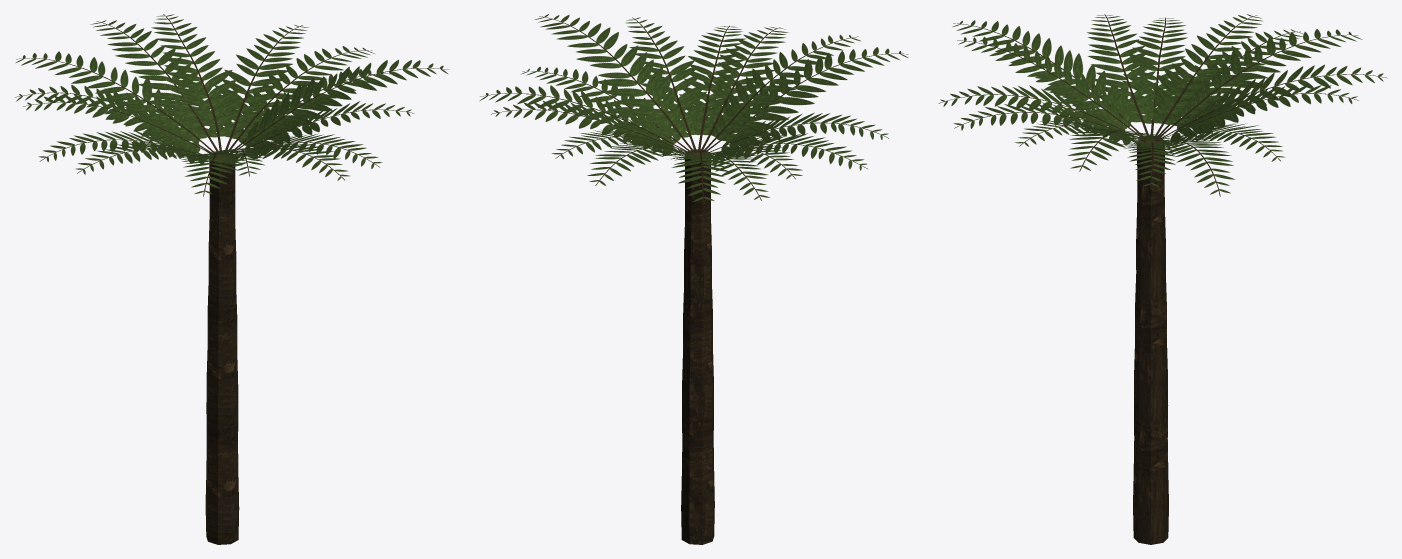
Rendered from tree_fern_v01_LOD1.glb.
3 renders of one model, left to right at view 1: azimuth 30°, elevation 25°; view 2: azimuth 150°, elevation 25°; view 3: azimuth 270°, elevation 25°, orthographic. The views are drawn at different scales.
Parts seen in each view (by area): view 1: tree_fern_v01_LOD1; view 2: tree_fern_v01_LOD1; view 3: tree_fern_v01_LOD1.
Part boxes in pixels (<box>): tree_fern_v01_LOD1: <box>15,14,449,544</box>; tree_fern_v01_LOD1: <box>479,14,908,544</box>; tree_fern_v01_LOD1: <box>938,14,1387,544</box>.
Size of the model in its own units: 2.74 by 3.2 by 2.78.
Materials: 2 (2 with a texture image).
